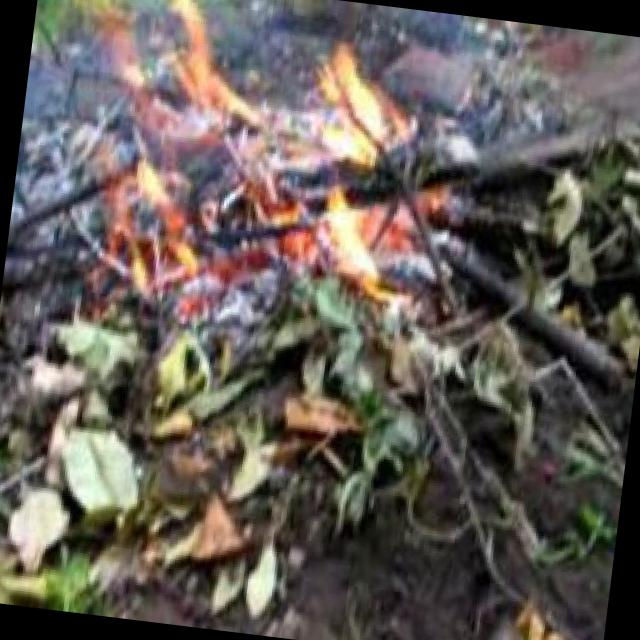Fire: (71, 7, 448, 306)
